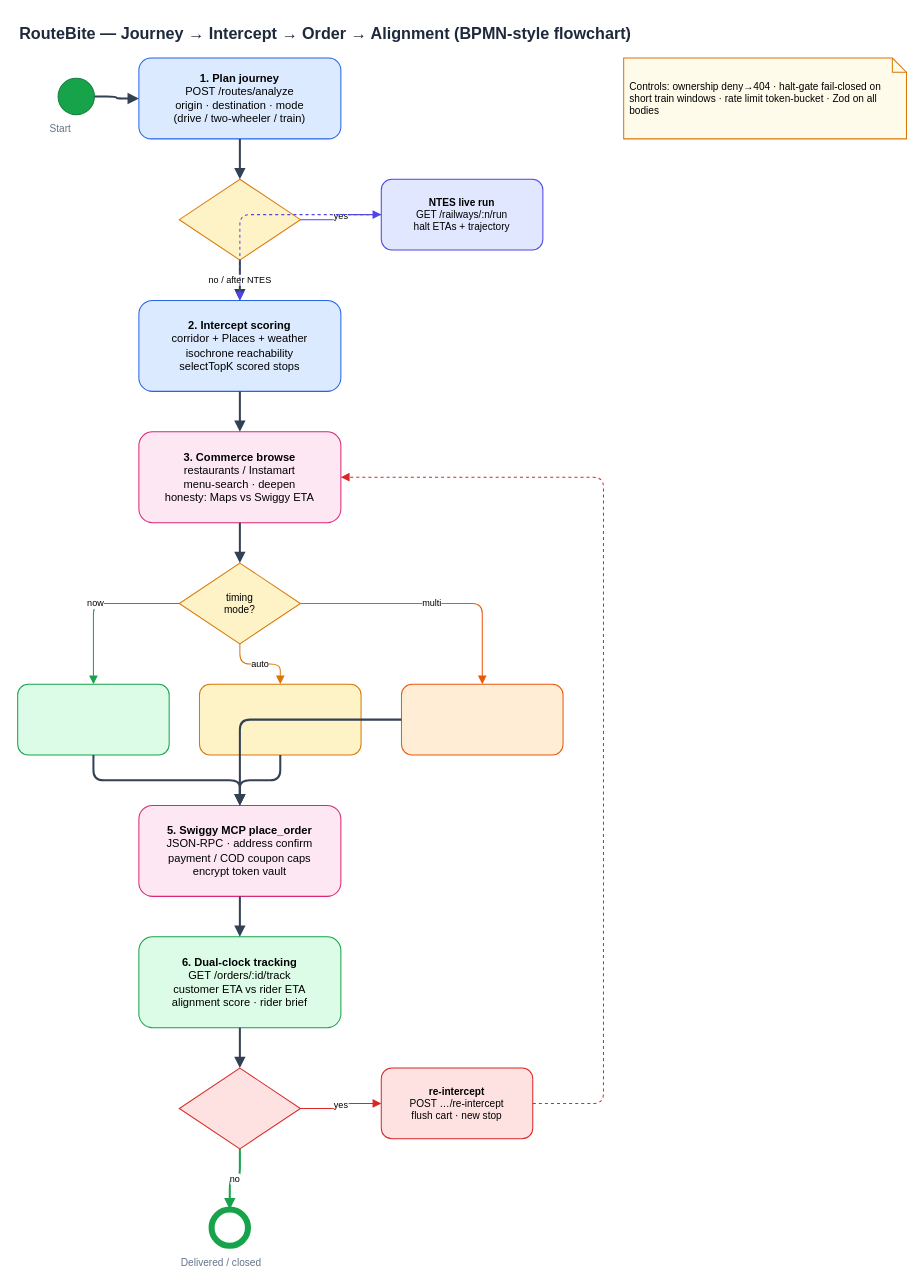
The diagram is 924 pixels wide and 1286 high, and some of its shapes have lost their labels. Here are the shapes that lost their labels. From the top down, the centre of each, then its label:
At (239,219): "transportMode = train?".
At (93,719): "now place immediately halt-gate check (train)".
At (279,719): "auto / deferred persist autoPlaceAt deferred-placer tick 20s".
At (481,719): "hop-pack / multi-hop POST /orders/hop-pack corridor packing".
At (239,1108): "misaligned / divert?".
